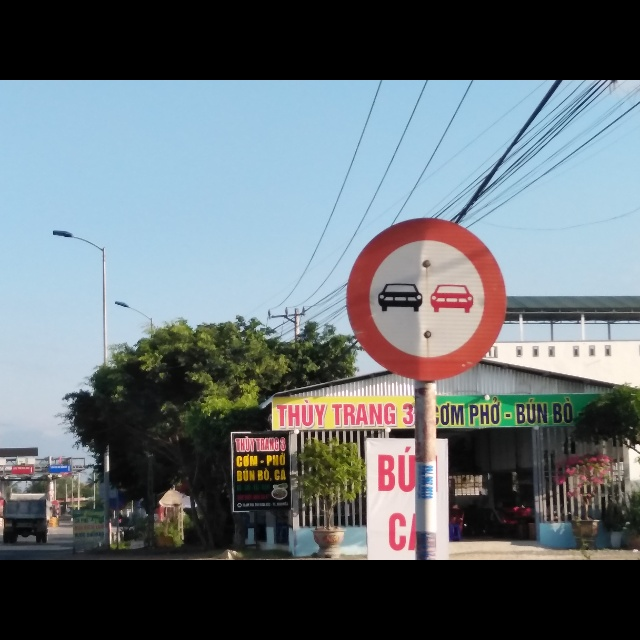Cấm vượt: (342, 217, 510, 384)
